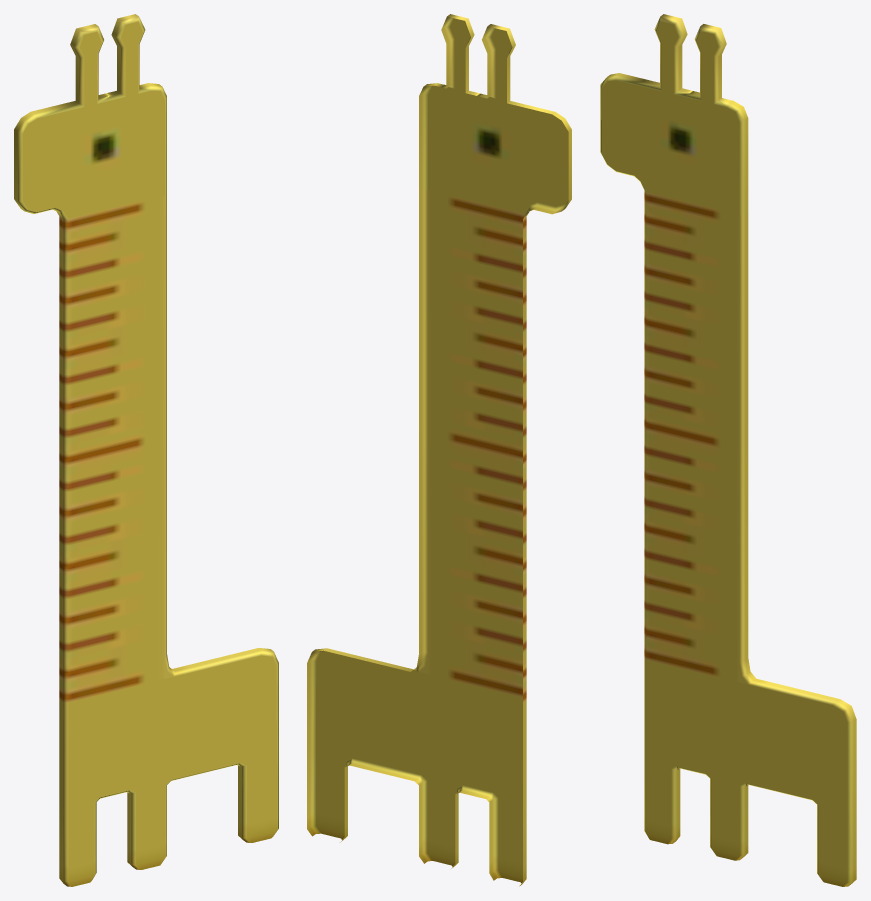
The model's file is int_bab_giraffe.dae.
The picture shows the model from 3 angles, left to right: view 1: azimuth 30°, elevation 25°; view 2: azimuth 150°, elevation 25°; view 3: azimuth 330°, elevation 25°; orthographic projection. The views are drawn at different scales.
Parts seen in each view (by area): view 1: int_bab_giraffe; view 2: int_bab_giraffe; view 3: int_bab_giraffe.
Boxes of the visible parts, x1,y1,x2,y2 form: int_bab_giraffe: [14, 14, 278, 886]; int_bab_giraffe: [307, 14, 571, 886]; int_bab_giraffe: [600, 14, 856, 886].
Size of the model in its own units: 21.24 by 66.19 by 0.7357.
1 material, 1 textured.
